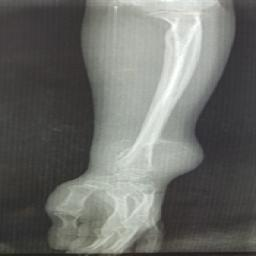cancer: (93, 137, 201, 179)
